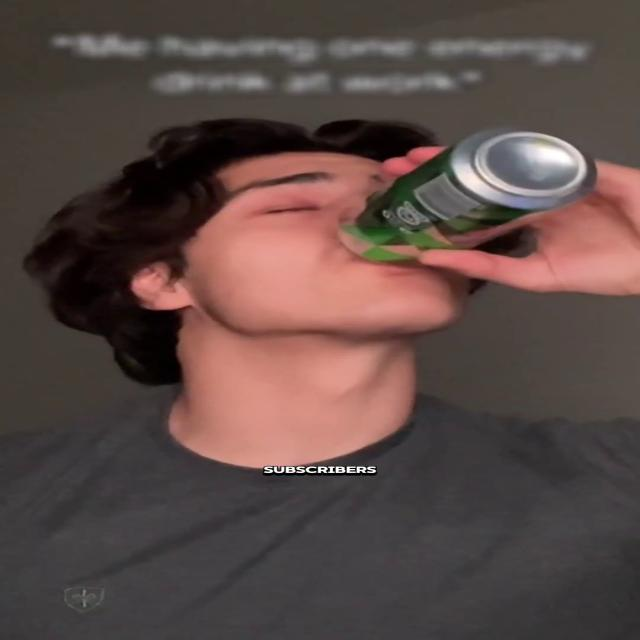Can: (336, 128, 596, 263)
Hand: (375, 141, 640, 306)
Mouth: (338, 250, 465, 274)
